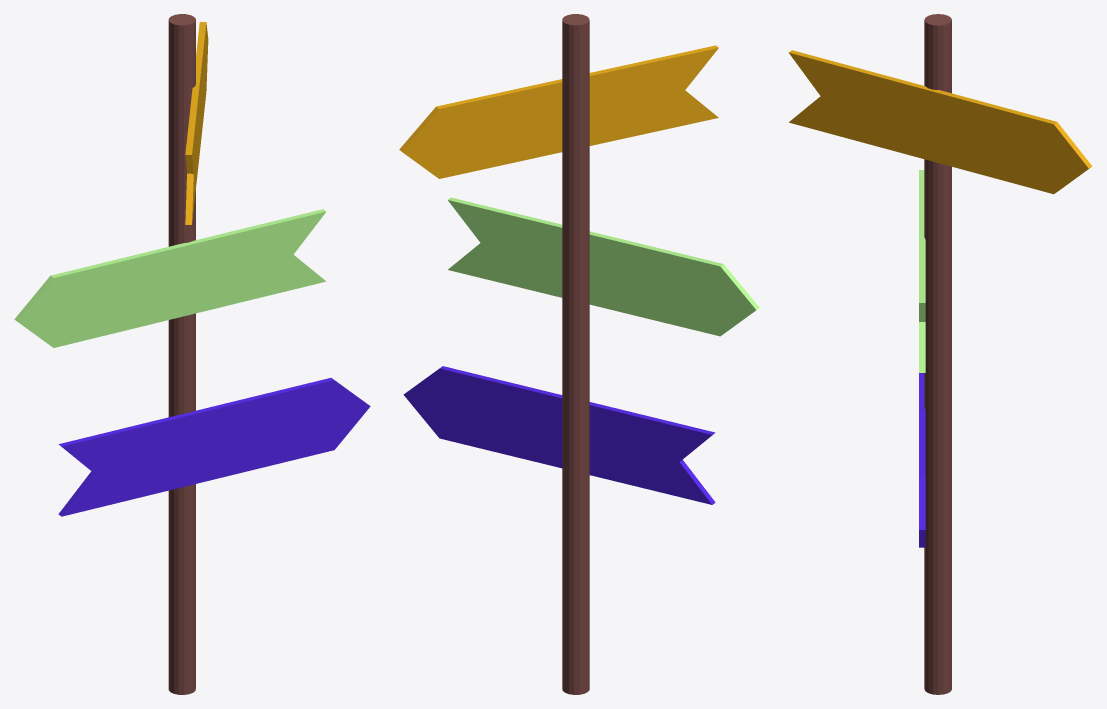
The model's file is Placa.fbx.
The picture shows the model from 3 angles, left to right: view 1: azimuth 30°, elevation 25°; view 2: azimuth 150°, elevation 25°; view 3: azimuth 270°, elevation 25°; orthographic projection.
Parts seen in each view (by area): view 1: Cylinder; view 2: Cylinder; view 3: Cylinder.
Part boxes in pixels (bbox=[...]): Cylinder: bbox=[14, 14, 370, 694]; Cylinder: bbox=[399, 14, 759, 694]; Cylinder: bbox=[788, 14, 1092, 694].
Size of the model in its own units: 93.03 by 169 by 69.39.
